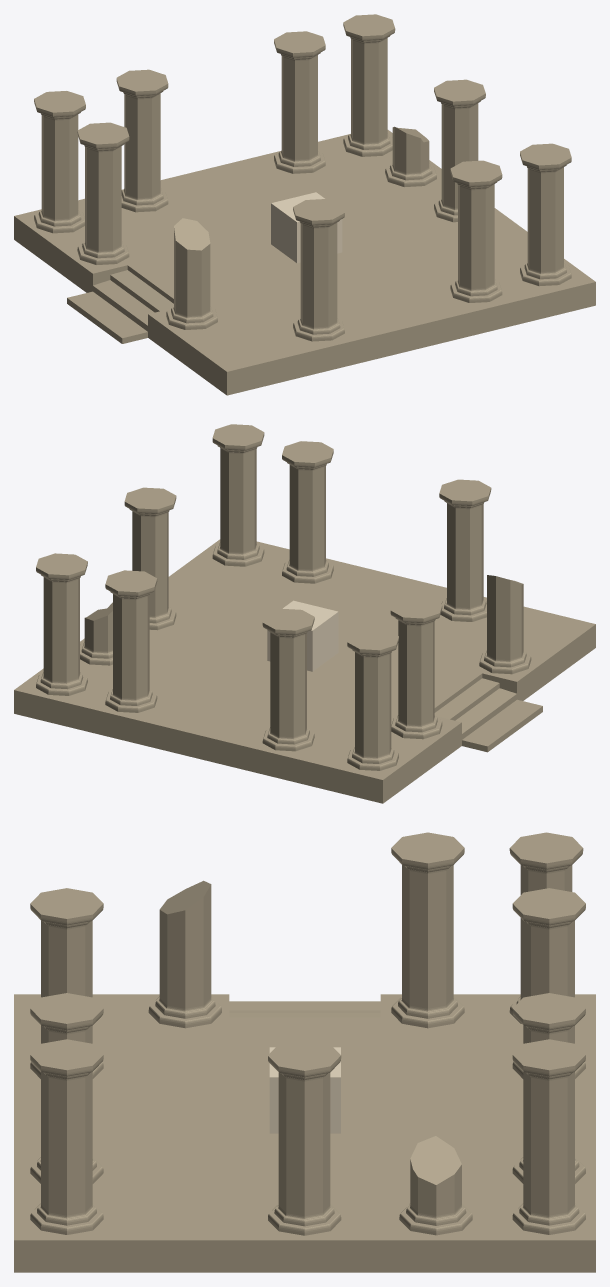
File: Monument_Statue_Ruined.fbx
3 views of the same model, one above another, from view 1: azimuth 30°, elevation 25°; view 2: azimuth 150°, elevation 25°; view 3: azimuth 270°, elevation 25° (orthographic). The views are drawn at different scales.
Visible parts, largest first — view 1: Monument_Statue_Ruined; view 2: Monument_Statue_Ruined; view 3: Monument_Statue_Ruined.
Boxes of the visible parts, left/top/right/bottom form: Monument_Statue_Ruined: left=14, top=14, right=595, bottom=395; Monument_Statue_Ruined: left=14, top=424, right=595, bottom=803; Monument_Statue_Ruined: left=14, top=832, right=595, bottom=1272.
Size of the model in its own units: 633 by 678 by 237.
